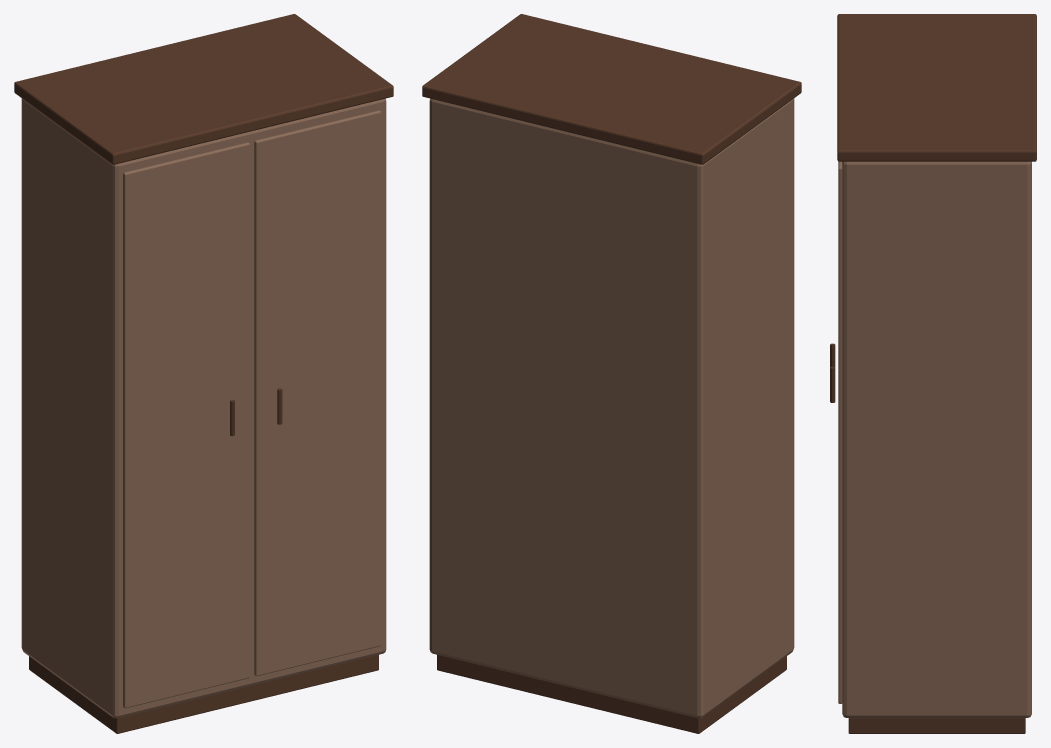
The model's file is hh_wardrobe.glb.
The picture shows the model from 3 angles, left to right: view 1: azimuth 30°, elevation 25°; view 2: azimuth 150°, elevation 25°; view 3: azimuth 270°, elevation 25°; orthographic projection.
Visible parts, largest first — view 1: door.001, door, body, crown, plinth; view 2: body, crown, plinth; view 3: body, crown, plinth, door.001.
Boxes of the visible parts, x1,y1,x2,y2 form: door.001: [254, 110, 381, 676]; door: [123, 142, 249, 708]; body: [21, 98, 386, 718]; crown: [14, 14, 393, 164]; plinth: [29, 655, 378, 733]; body: [429, 98, 794, 718]; crown: [422, 14, 801, 164]; plinth: [437, 655, 786, 733]; body: [842, 161, 1031, 717]; crown: [837, 14, 1036, 161]; plinth: [848, 718, 1025, 733]; door.001: [838, 161, 842, 703].
Size of the model in its own units: 1.03 by 2.05 by 0.653.
